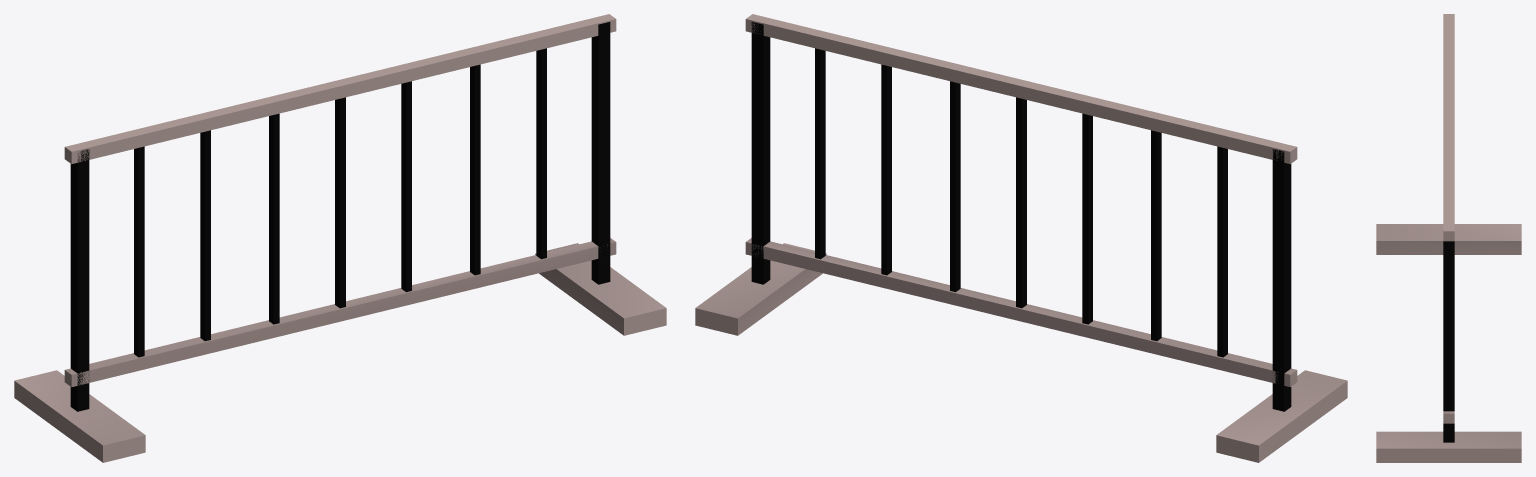
Rendered from prop.crowd-fence.lod1.glb.
3 renders of one model, left to right at view 1: azimuth 30°, elevation 25°; view 2: azimuth 150°, elevation 25°; view 3: azimuth 270°, elevation 25°, orthographic. The views are drawn at different scales.
Visible parts, largest first — view 1: body; view 2: body; view 3: body.
Part boxes in pixels (x1,y1,x2,y2): body: [14, 14, 666, 462]; body: [695, 14, 1347, 462]; body: [1376, 14, 1521, 462].
Bounding box in the file's own units: 2.38 × 1.13 × 0.65.
